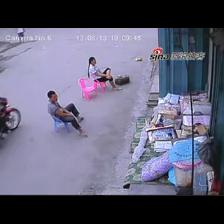person: (47, 91, 87, 137), (88, 57, 121, 90), (17, 28, 24, 42)
